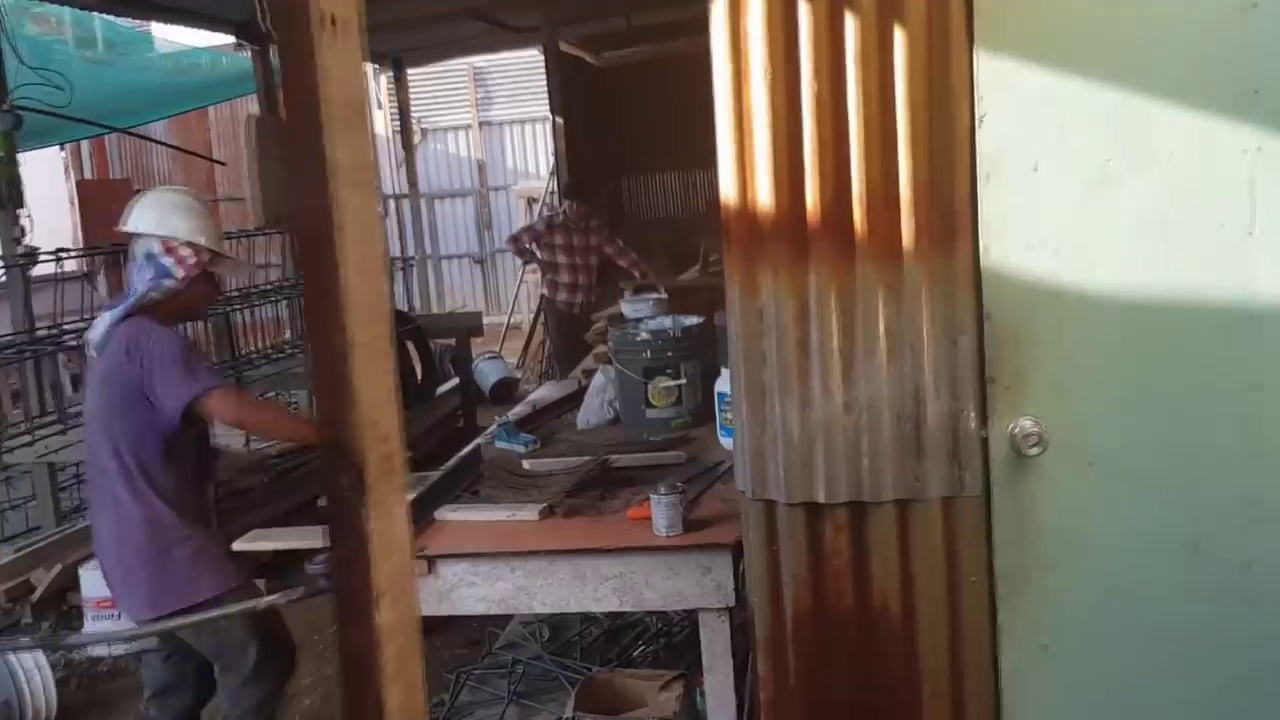helmet: (102, 186, 218, 259)
helmet-off: (555, 174, 601, 231)
helmet-on: (111, 165, 220, 326)
person: (82, 165, 321, 720), (1121, 156, 1249, 502), (504, 175, 657, 379)
